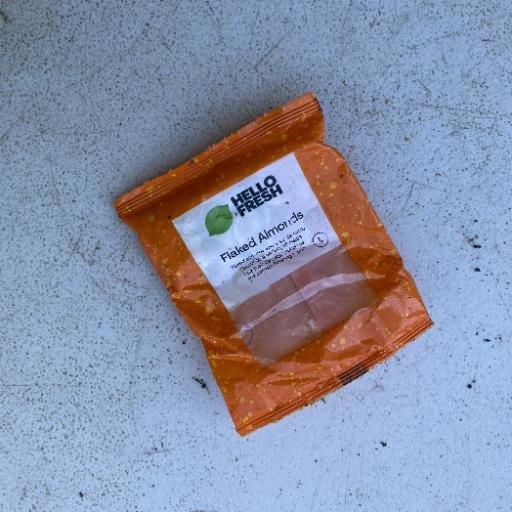Plastic: (111, 90, 435, 437)
